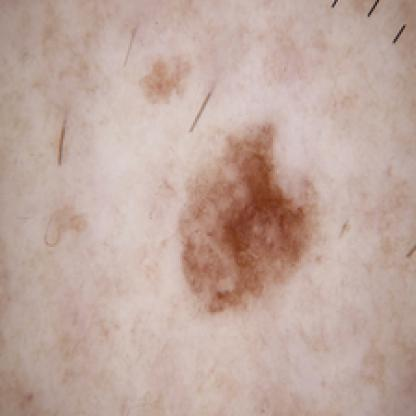benign: (169, 128, 325, 310)
